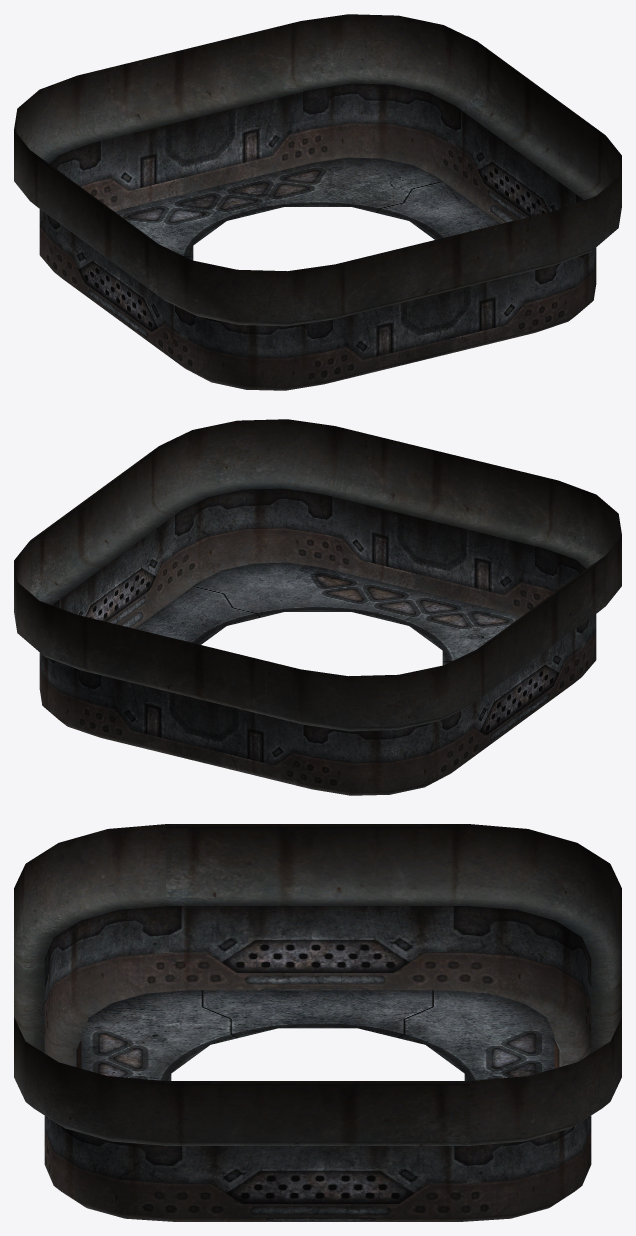
File: living_area_extruded_panel_fan.dae
The picture shows the model from 3 angles, top to bottom: view 1: azimuth 30°, elevation 25°; view 2: azimuth 150°, elevation 25°; view 3: azimuth 270°, elevation 25°; orthographic projection. The views are drawn at different scales.
Visible parts, largest first — view 1: polySurface26; view 2: polySurface26; view 3: polySurface26.
Part boxes in pixels (x1,y1,x2,y2): polySurface26: (14,14,621,390); polySurface26: (14,419,621,795); polySurface26: (14,824,621,1221).
Size of the model in its own units: 4 by 1.15 by 4.
Materials: 1 (1 with a texture image).
